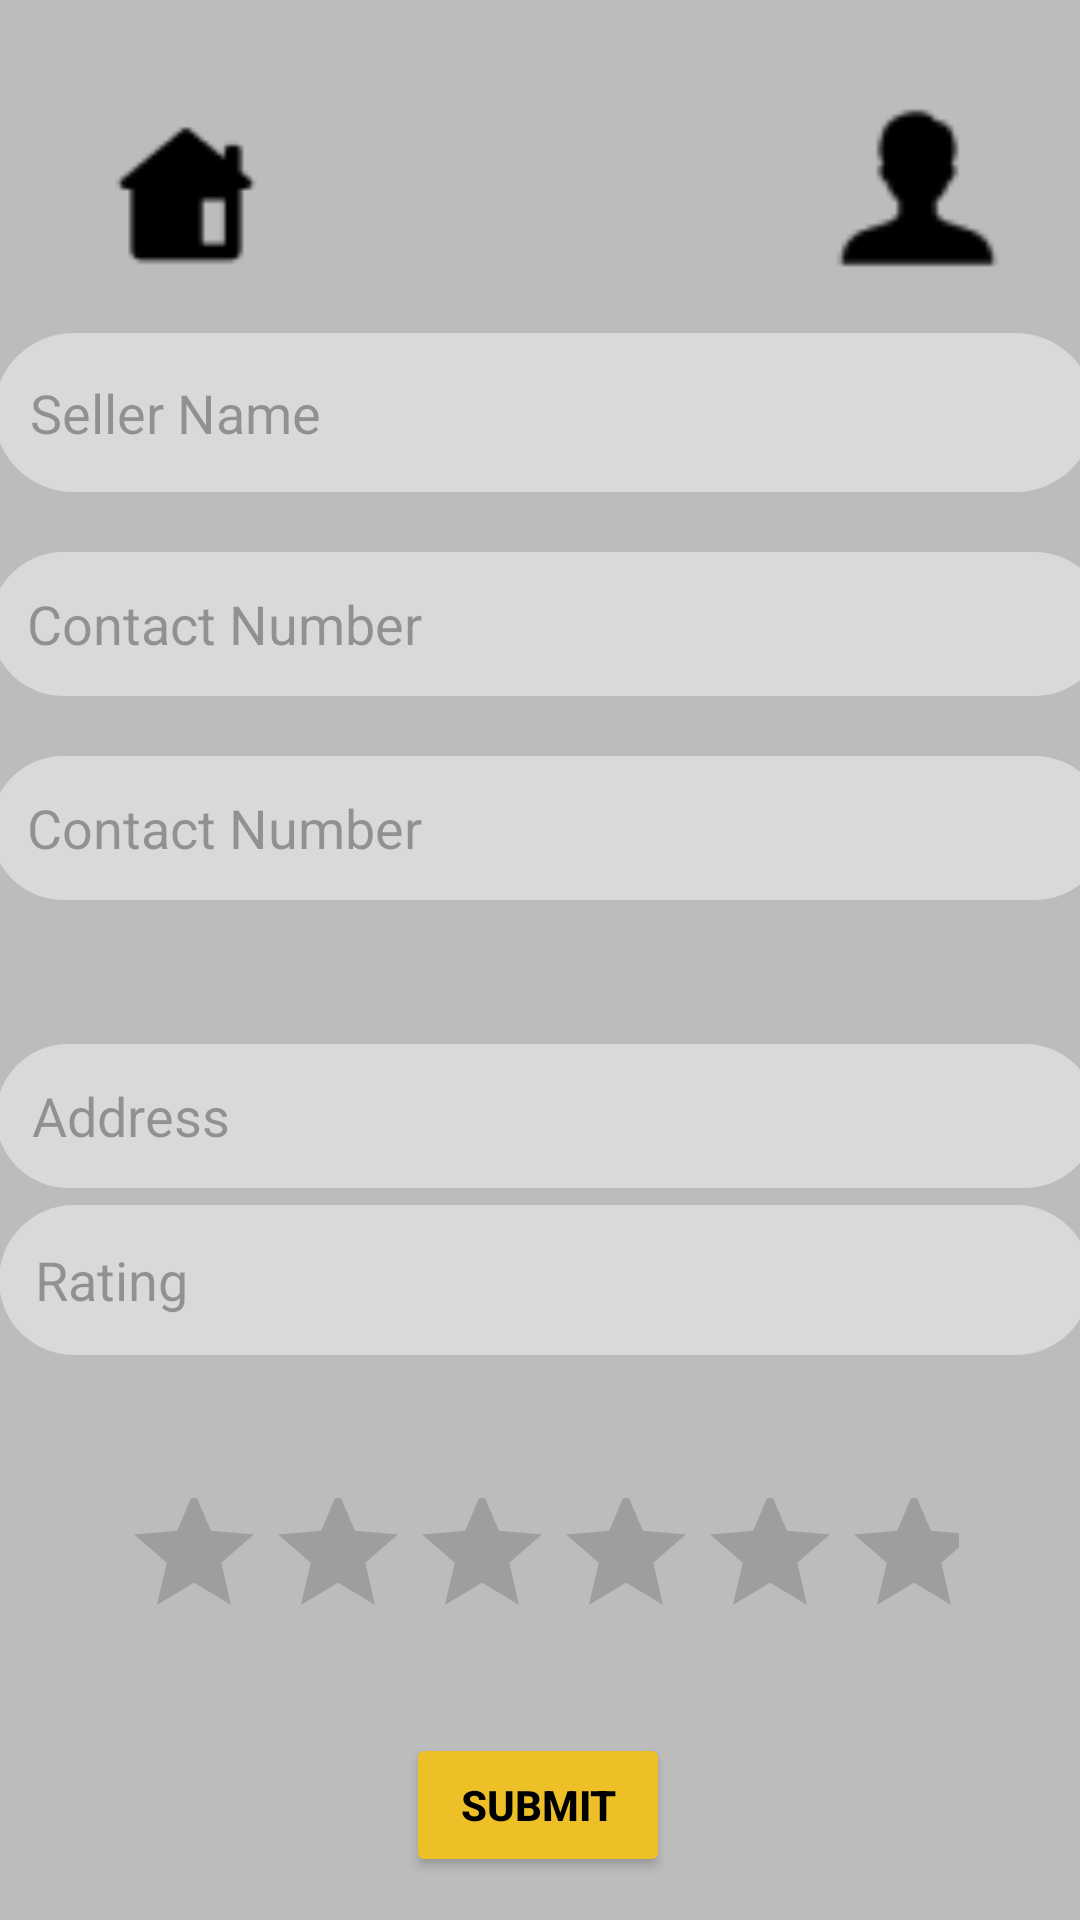

Locate icon controls on the screen. Image size 1080 x 1920, boxes as rect(x1, y1, x2, y2).
home: rect(117, 127, 255, 264)
user male: rect(839, 109, 996, 267)
